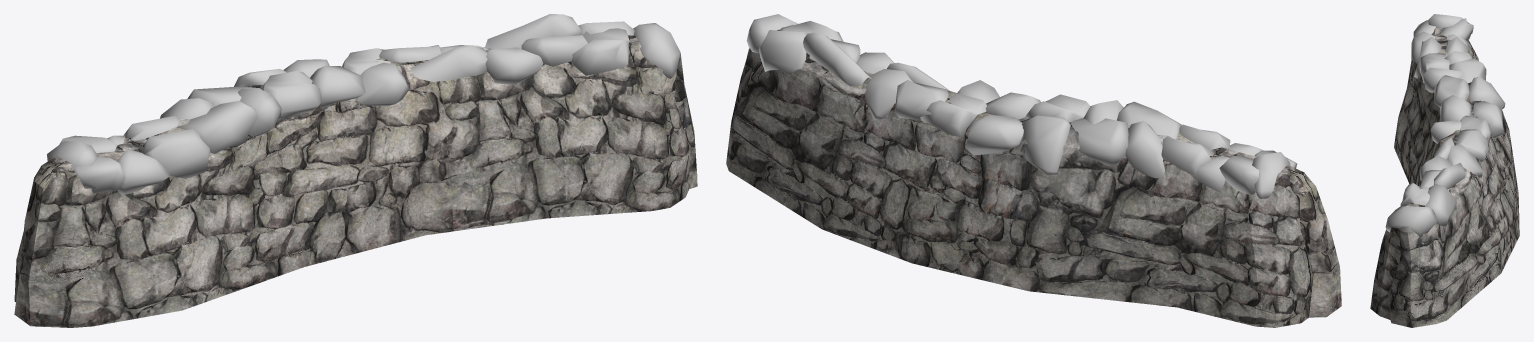
Rendered from Wall_1b.fbx.
The picture shows the model from 3 angles, left to right: view 1: azimuth 30°, elevation 25°; view 2: azimuth 150°, elevation 25°; view 3: azimuth 270°, elevation 25°; orthographic projection. The views are drawn at different scales.
Parts seen in each view (by area): view 1: Wall, Rock; view 2: Wall, Rock; view 3: Wall, Rock.
Part boxes in pixels (left/top/right/bottom): Wall: left=14, top=35, right=697, bottom=327; Rock: left=47, top=14, right=680, bottom=194; Wall: left=726, top=24, right=1341, bottom=327; Rock: left=746, top=14, right=1297, bottom=198; Wall: left=1370, top=27, right=1519, bottom=327; Rock: left=1385, top=14, right=1505, bottom=236.
Size of the model in its own units: 858 by 211 by 240.
